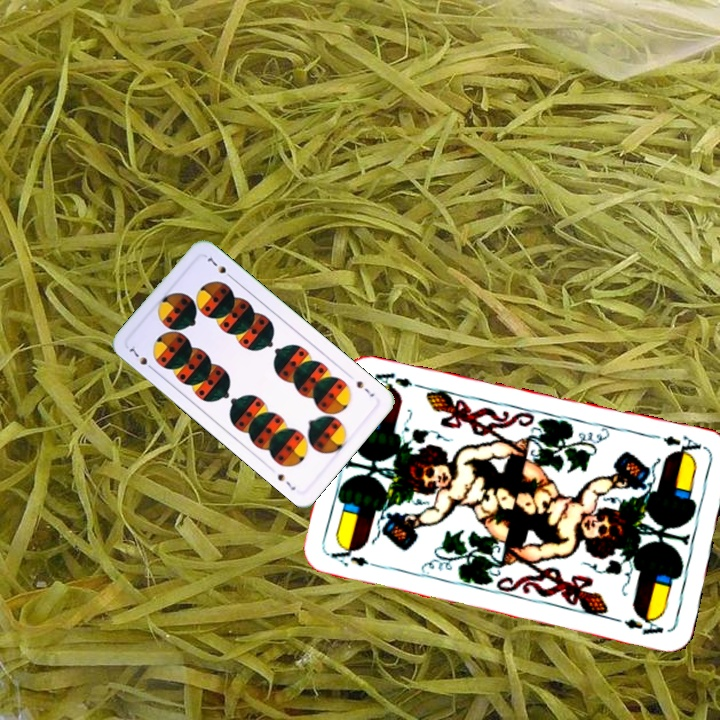EA: (658, 431, 707, 460), (327, 547, 384, 571)
S7: (125, 342, 157, 374), (352, 377, 377, 400)
